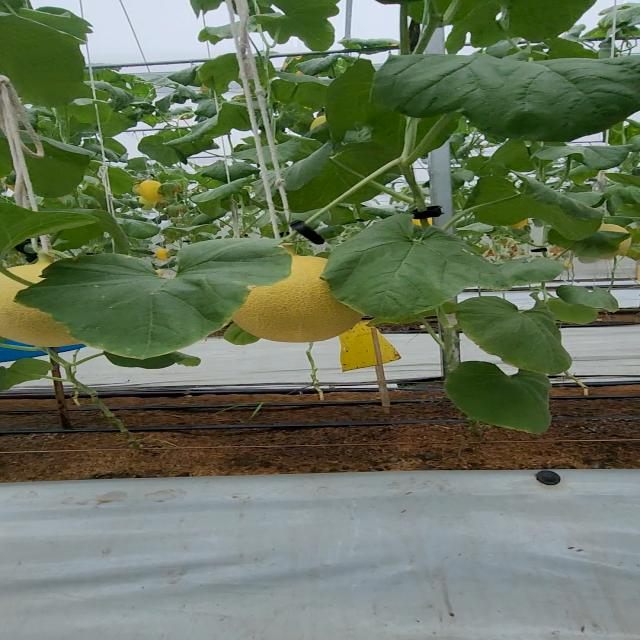Melon: (227, 255, 363, 346), (0, 262, 105, 351)
